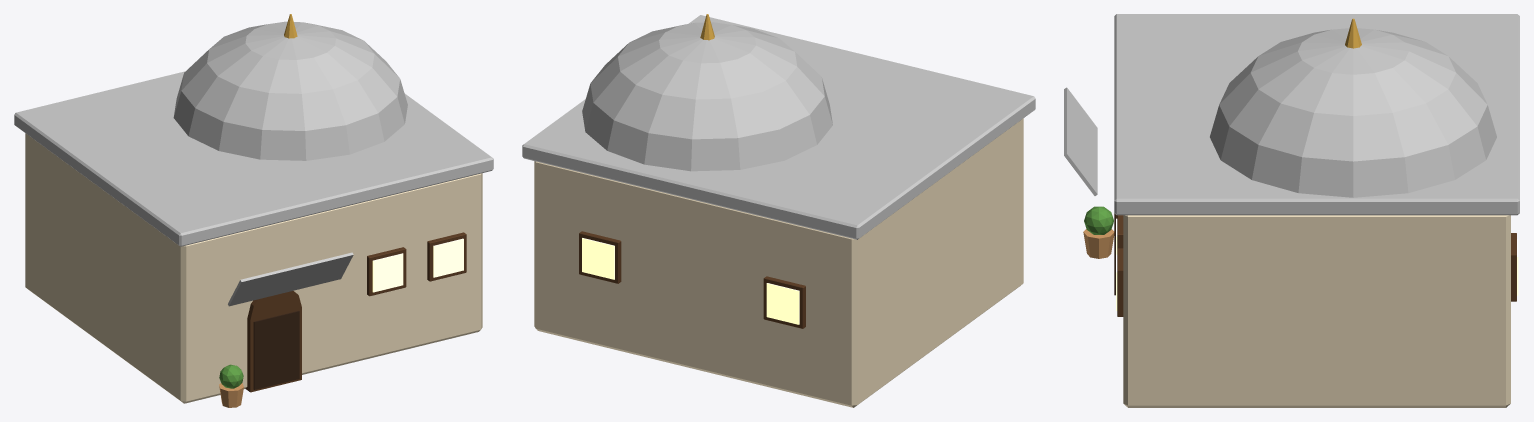
File: map3_house_home_v01.glb
3 renders of one model, left to right at view 1: azimuth 30°, elevation 25°; view 2: azimuth 150°, elevation 25°; view 3: azimuth 270°, elevation 25°, orthographic. The views are drawn at different scales.
Parts seen in each view (by area): view 1: house_home; view 2: house_home; view 3: house_home.
Part boxes in pixels (bbox=[...]): house_home: bbox=[14, 14, 493, 407]; house_home: bbox=[522, 14, 1035, 407]; house_home: bbox=[1064, 14, 1519, 407].
Size of the model in its own units: 7.3 by 6.05 by 7.53.
